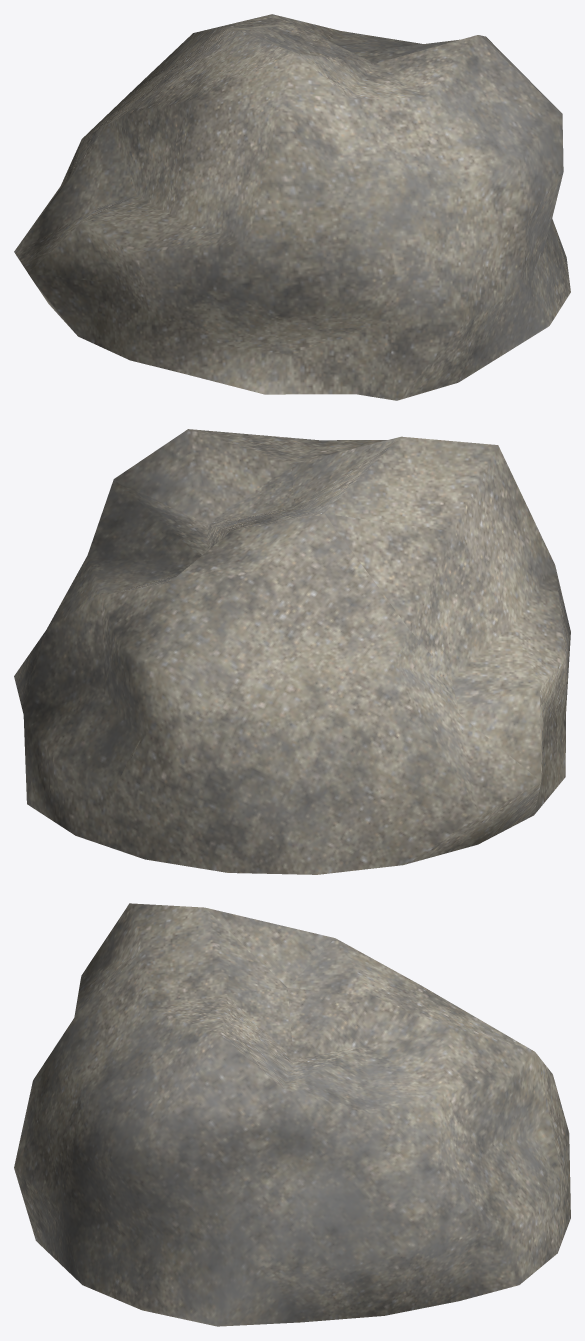
File: fels_klein_low_textured.FBX
The picture shows the model from 3 angles, top to bottom: view 1: azimuth 30°, elevation 25°; view 2: azimuth 150°, elevation 25°; view 3: azimuth 270°, elevation 25°; orthographic projection. The views are drawn at different scales.
Visible parts, largest first — view 1: Felsen_Klein; view 2: Felsen_Klein; view 3: Felsen_Klein.
Boxes of the visible parts, box(x1,y1,x2,y2) form: Felsen_Klein: box(14, 14, 570, 400); Felsen_Klein: box(14, 429, 570, 874); Felsen_Klein: box(14, 903, 570, 1326).
Bounding box in the file's own units: 92.77 × 53.83 × 92.23.
1 material, 1 textured.
